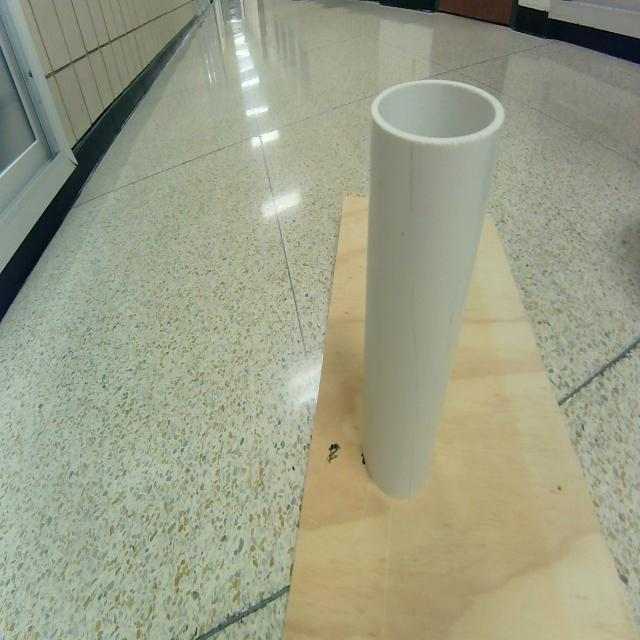coral: (361, 79, 505, 498)
